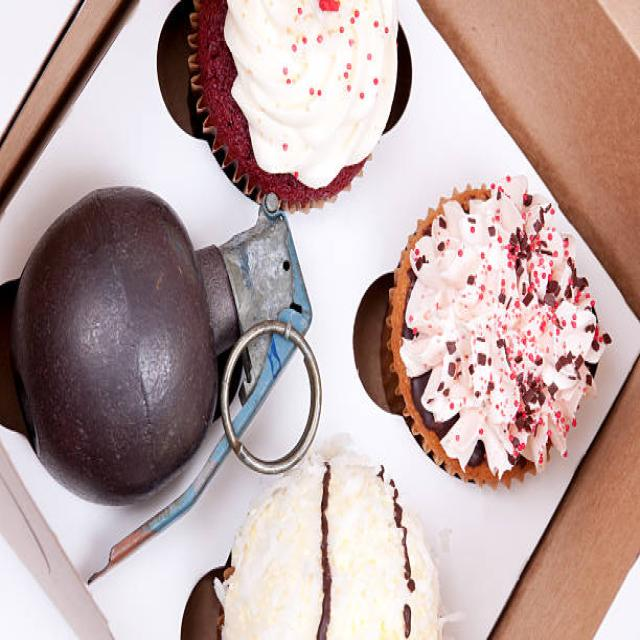grenade: (10, 188, 328, 591)
